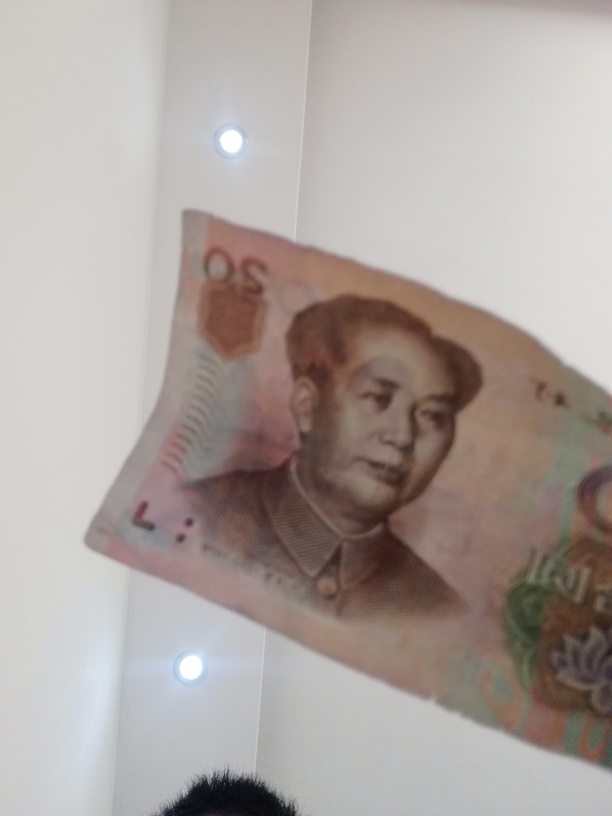rmb: (80, 202, 612, 770)
